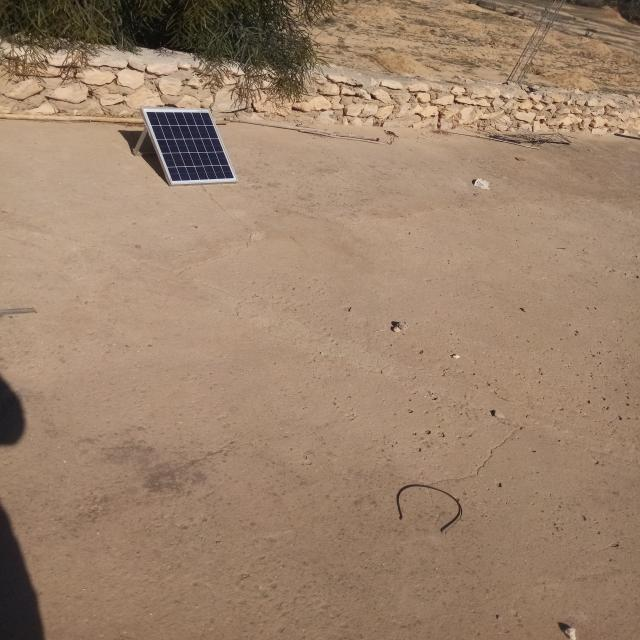no faulty: (142, 108, 239, 185)
